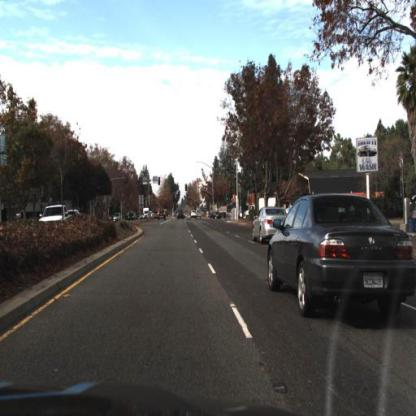car: (267, 196, 416, 321), (252, 207, 290, 245), (41, 204, 72, 234), (156, 207, 167, 223)
